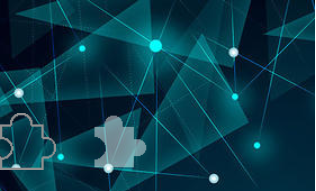target: (90, 114, 155, 173)
